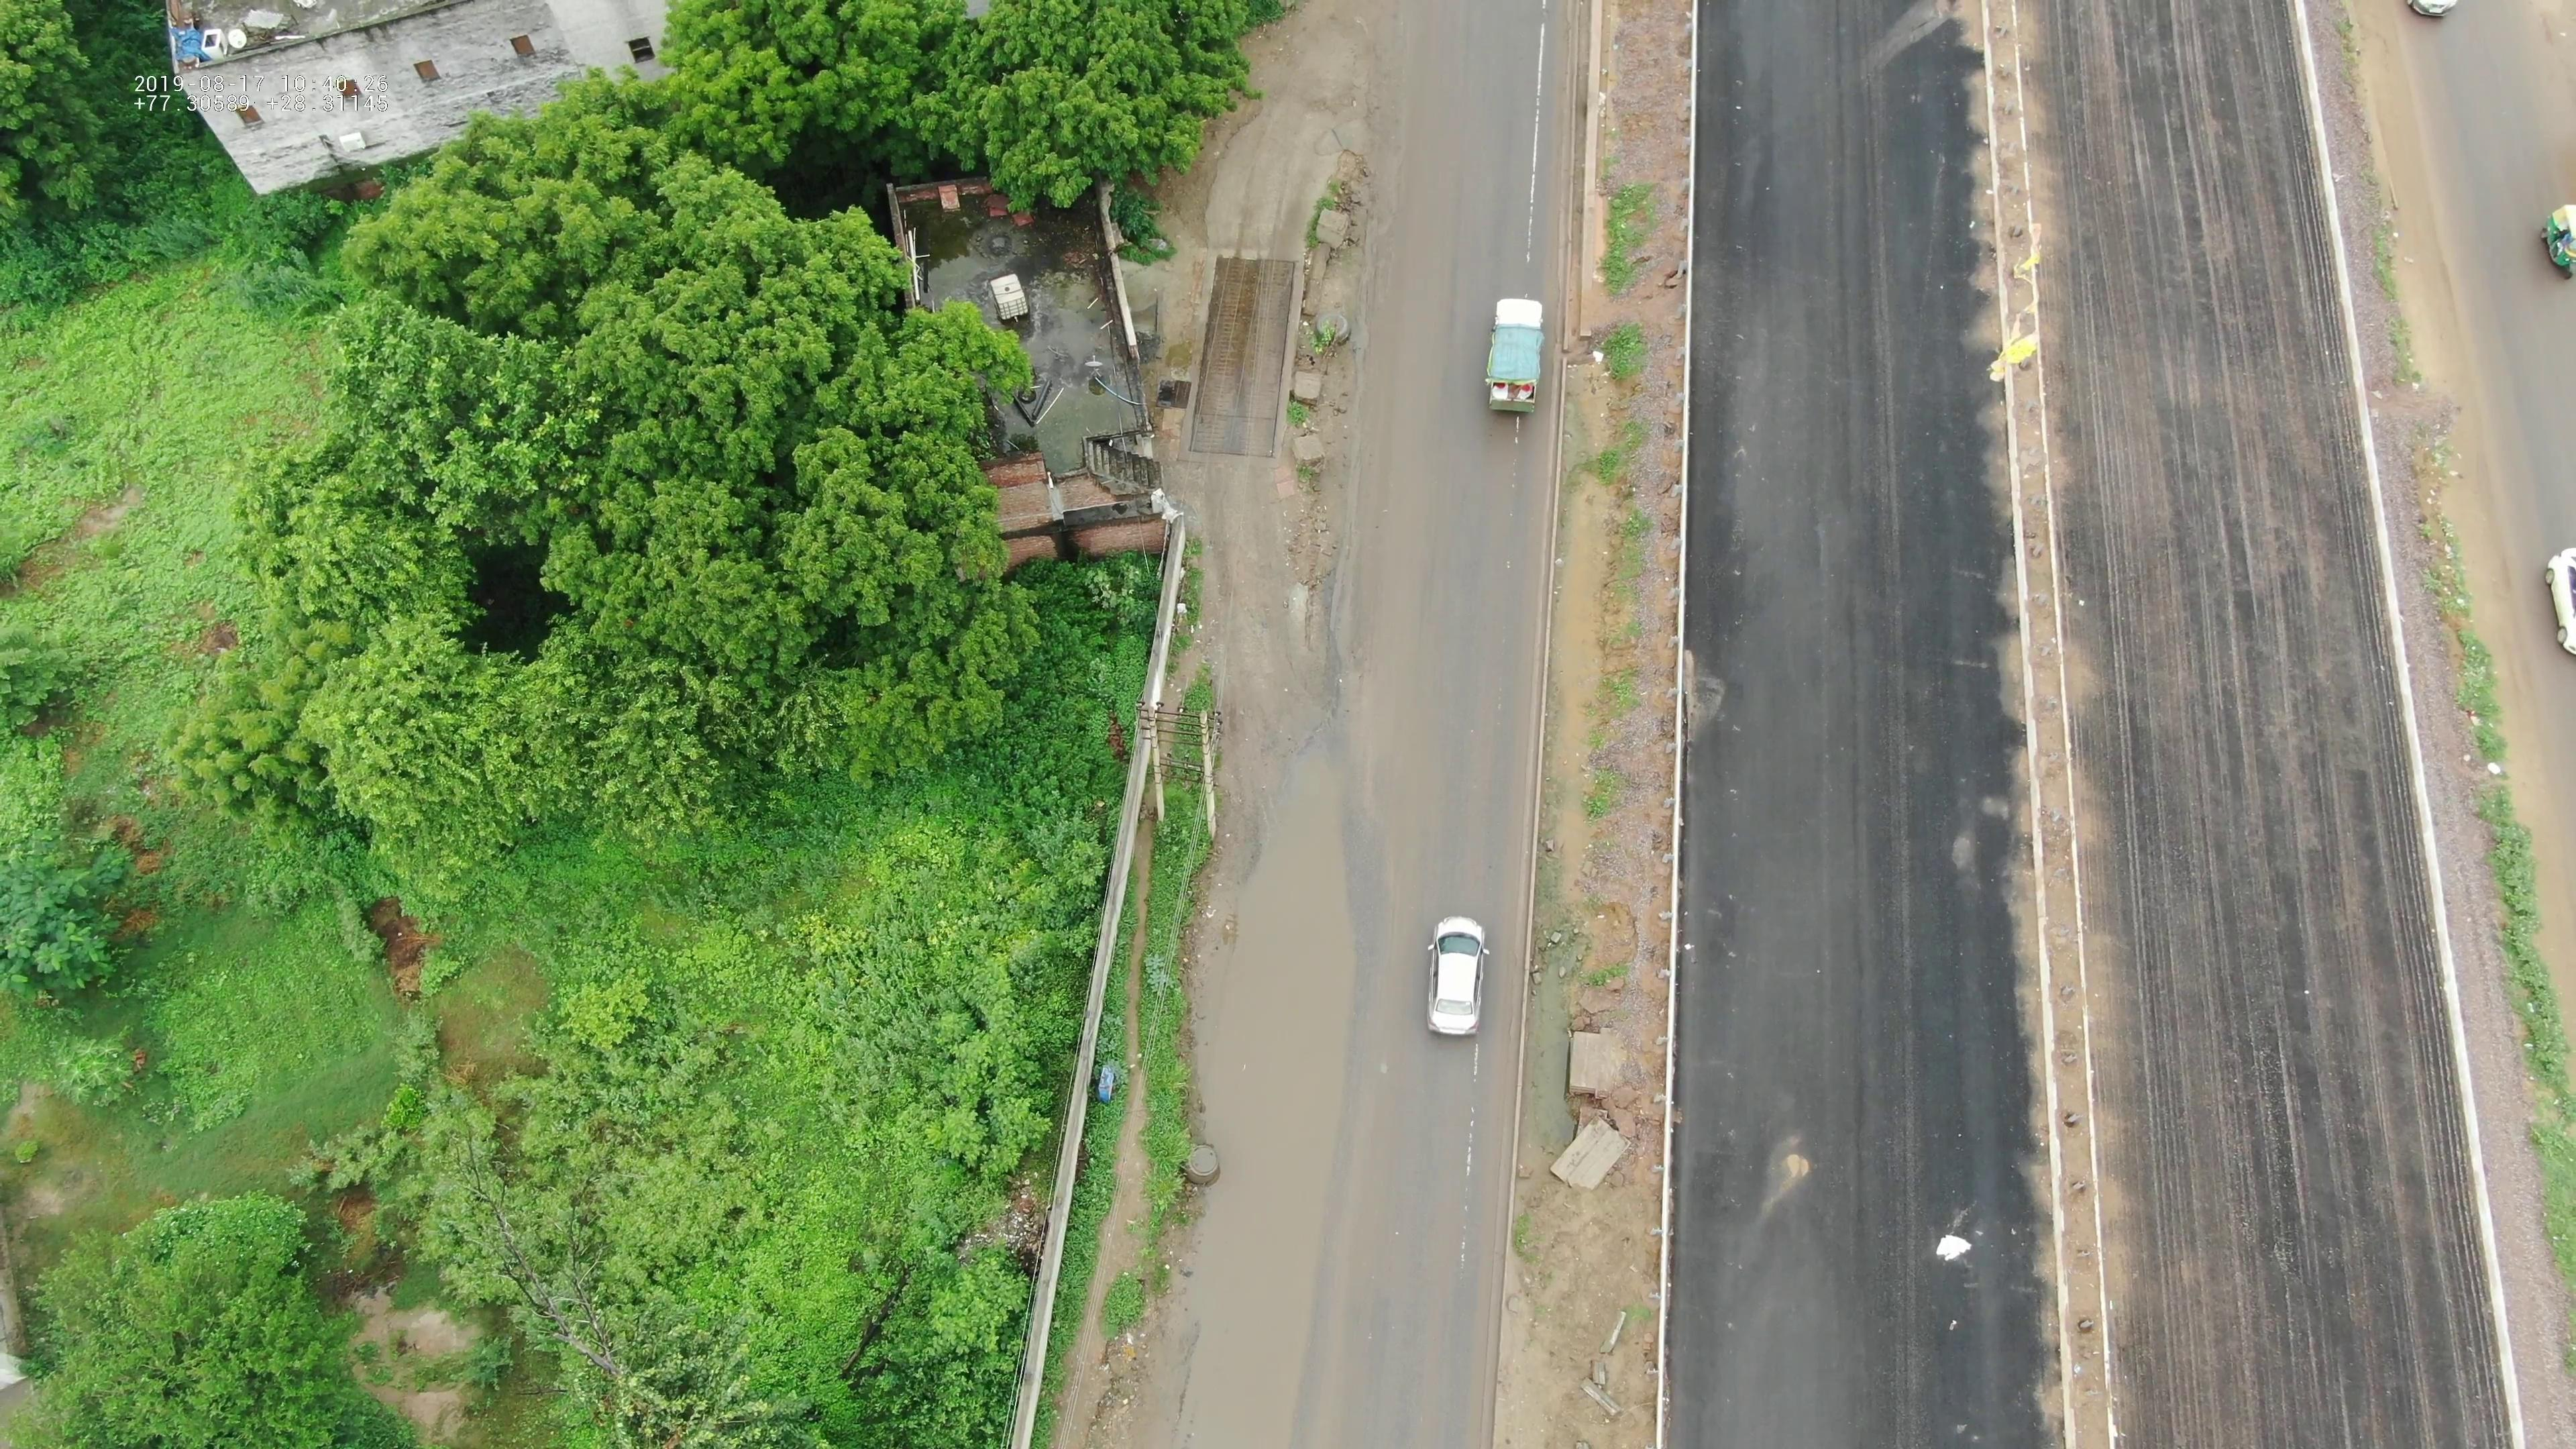Waterlogging: (1150, 732, 1389, 1403)
